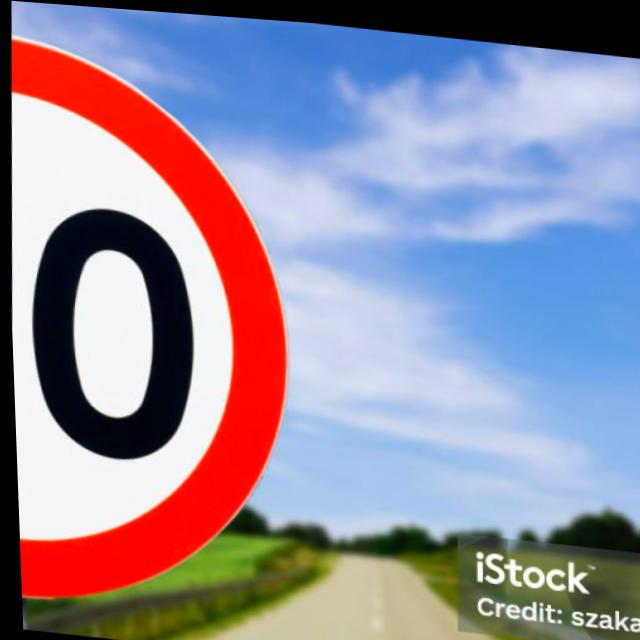Speed Limit -90-: (0, 0, 320, 640)
